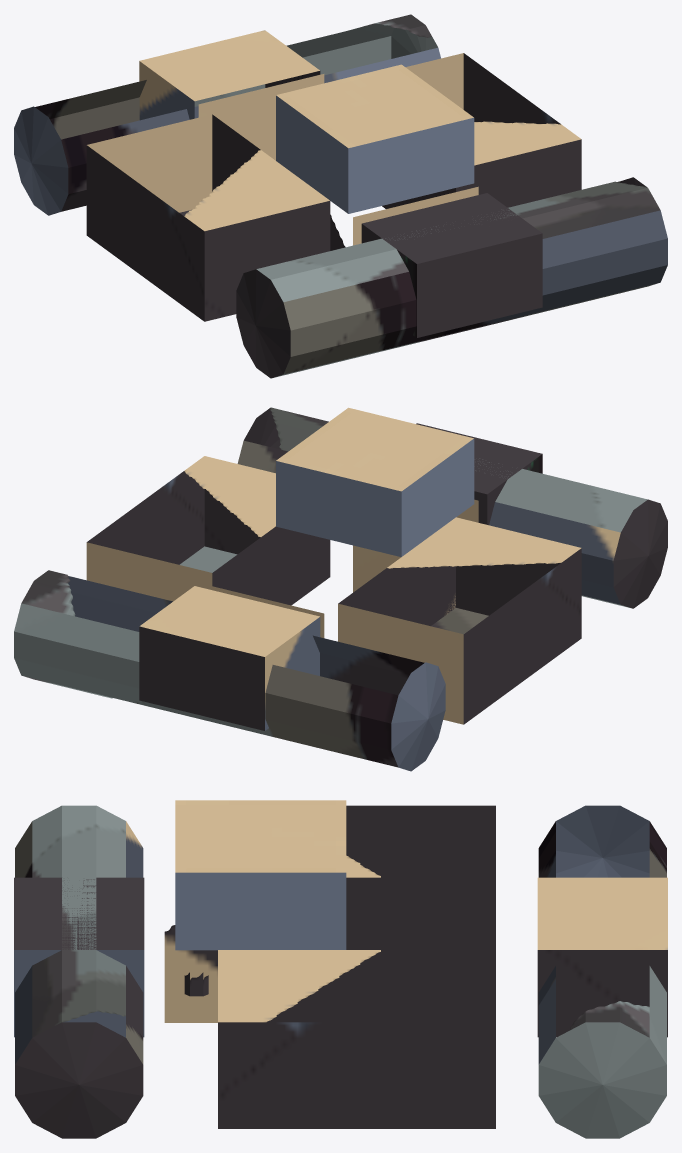
File: ss3_transformer.obj
3 renders of one model, top to bottom at view 1: azimuth 30°, elevation 25°; view 2: azimuth 150°, elevation 25°; view 3: azimuth 270°, elevation 25°, orthographic. The views are drawn at different scales.
Visible parts, largest first — view 1: cube; view 2: cube; view 3: cube.
Boxes of the visible parts, box(x1,y1,x2,y2) form: cube: box(14, 14, 667, 378); cube: box(14, 407, 667, 771); cube: box(14, 800, 667, 1138).
Size of the model in its own units: 3.14 by 1.44 by 3.83.
